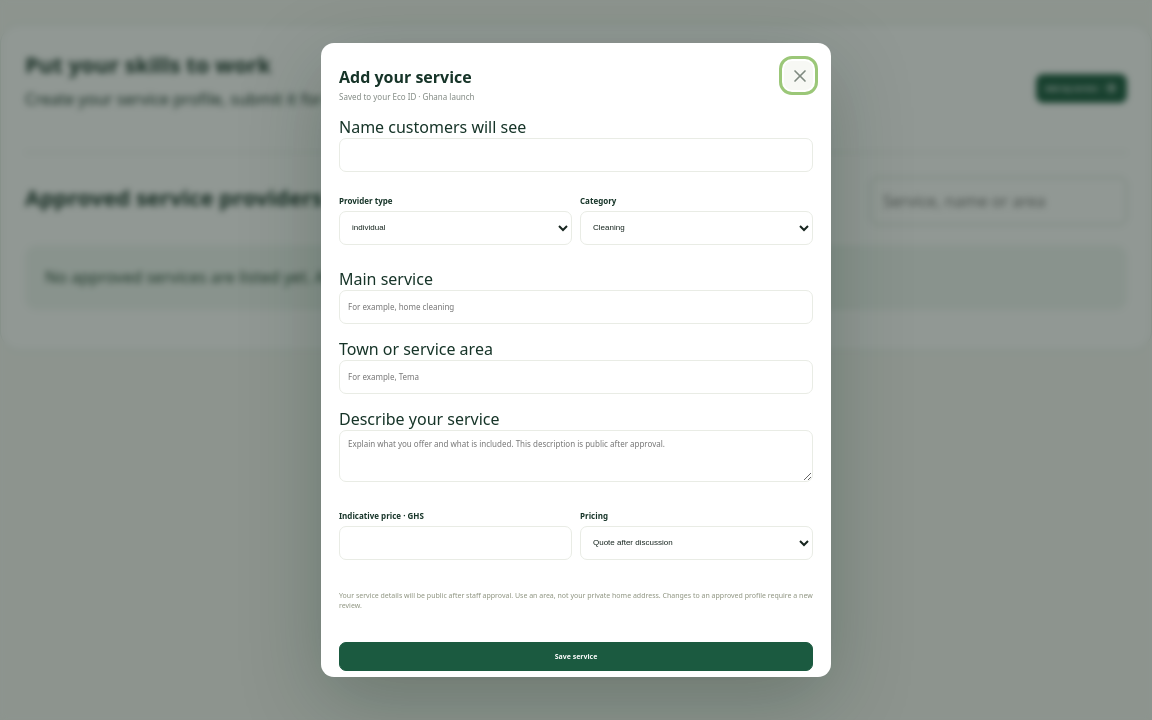
Test: provider onboarding › saves to the account with CSRF and submits for staff review
Expected: the button "Save service" is shown, [339, 642, 813, 671]
Type "Test Cleaner" into the field labelled "Name customers will see". click: (576, 155)
box: [339, 138, 813, 172]
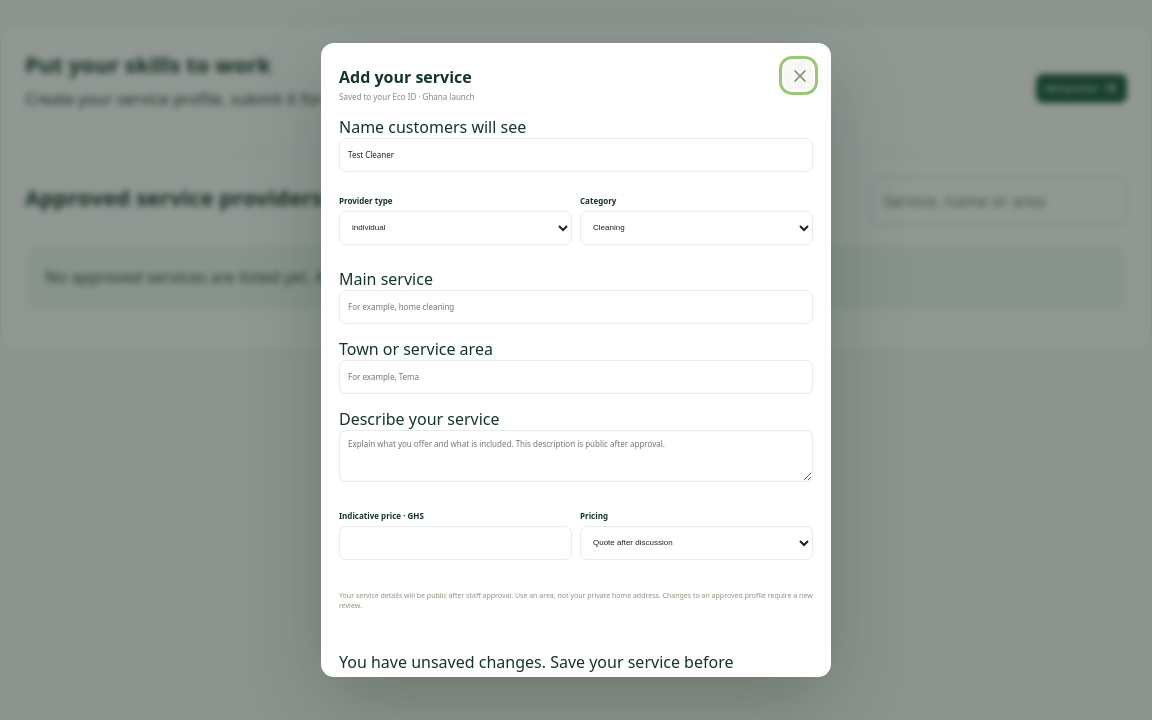
Type "House cleaning" into the field labelled "Main service". click: (576, 307)
box: [339, 290, 813, 324]
Type "Tema" into the field labelled "Town or service area". click: (576, 377)
box: [339, 360, 813, 394]
Replace the text in the text box labelled "Describe your service" with "House cleaning by appointment for homes.". click: (576, 456)
box: [339, 430, 813, 482]
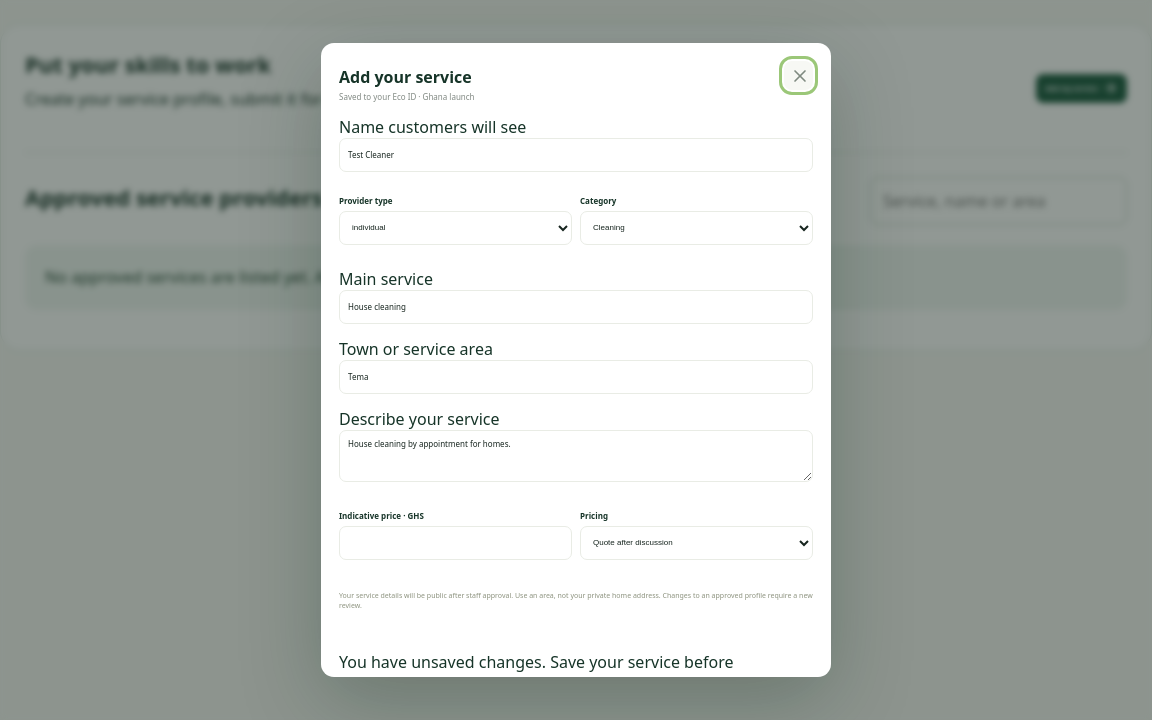
Type "120" into the number field labelled "Indicative price · GHS". click: (456, 543)
box: [339, 526, 572, 560]
(page scrolled)
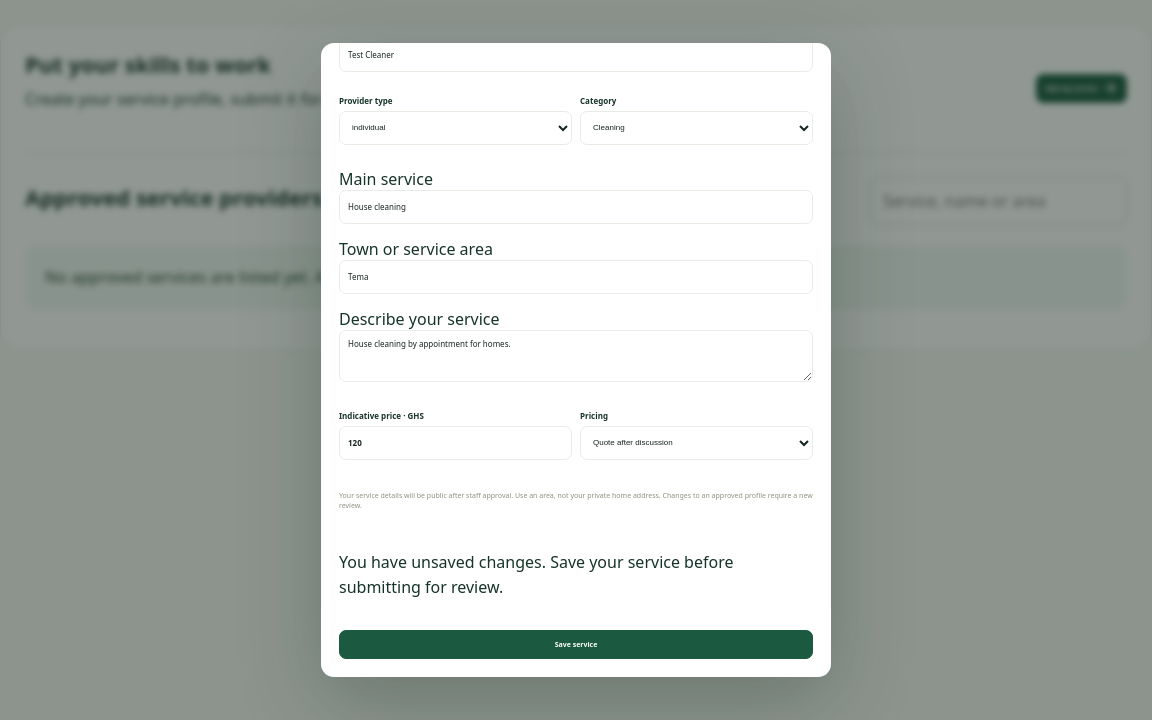
Click the button "Save service". click: (576, 644)
box: [339, 630, 813, 659]
(page scrolled)
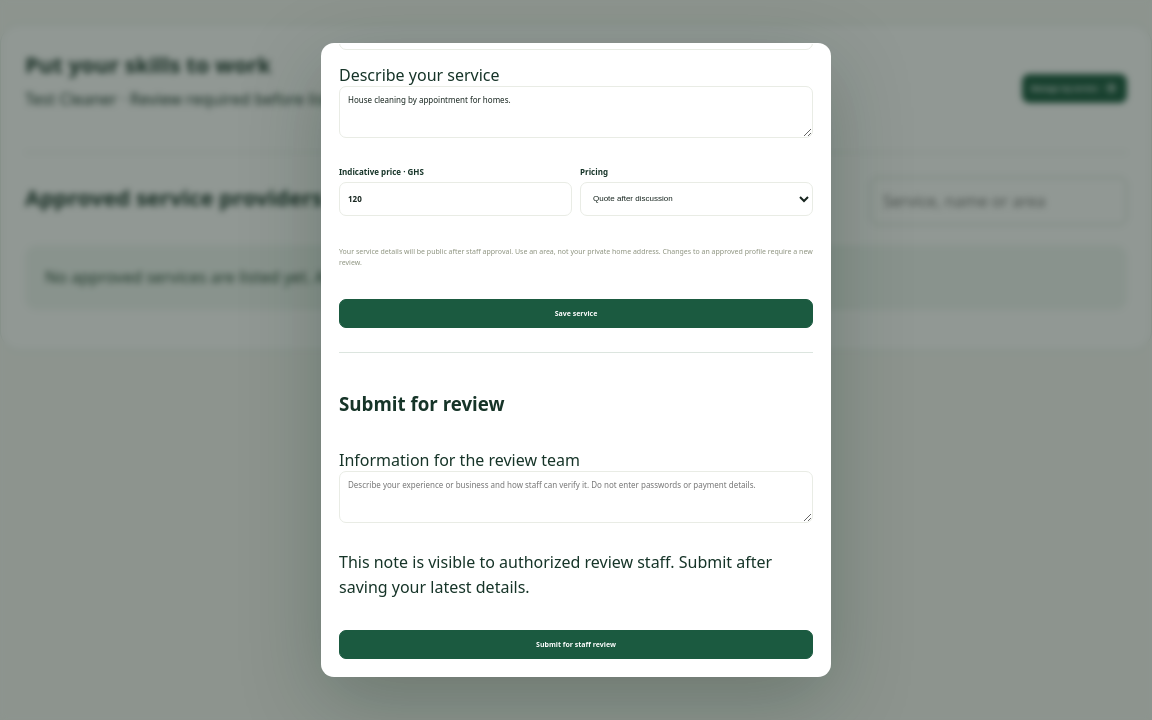
Expected: the button "Submit for staff review" is shown, [339, 630, 813, 659]
Replace the text in the text box labelled "Information for the review team" with "Synthetic reviewer-only evidence.". click: (576, 497)
box: [339, 471, 813, 523]
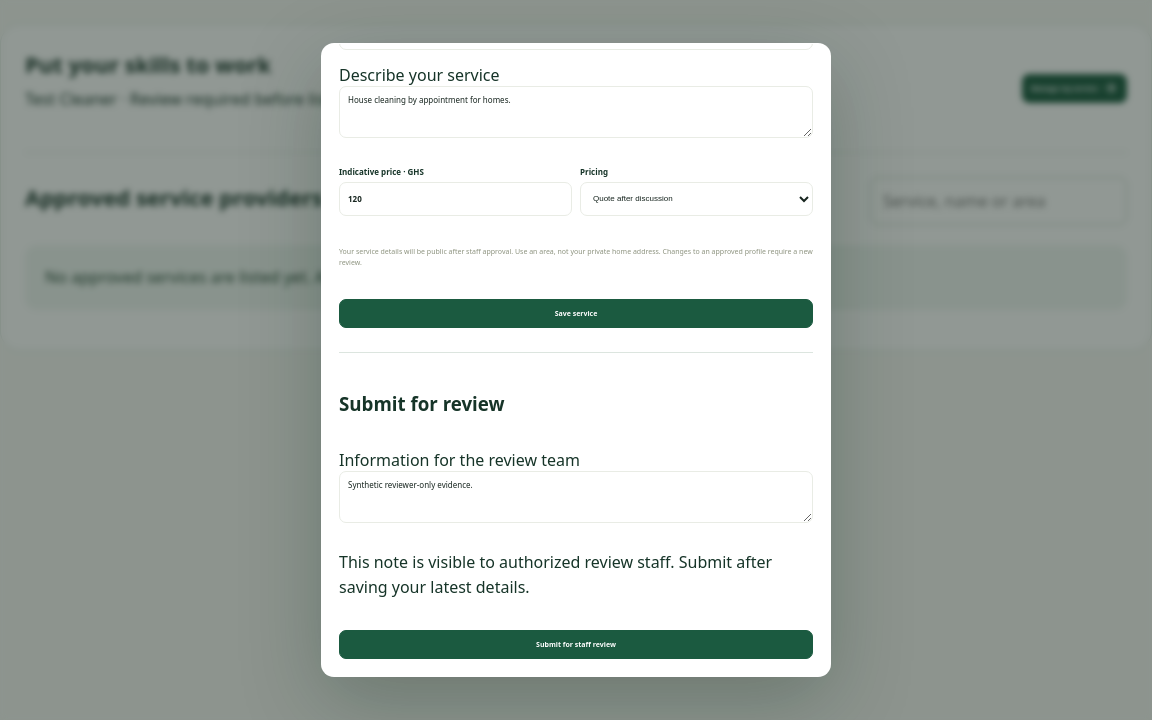
Click the button "Submit for staff review". click: (576, 644)
box: [339, 630, 813, 659]
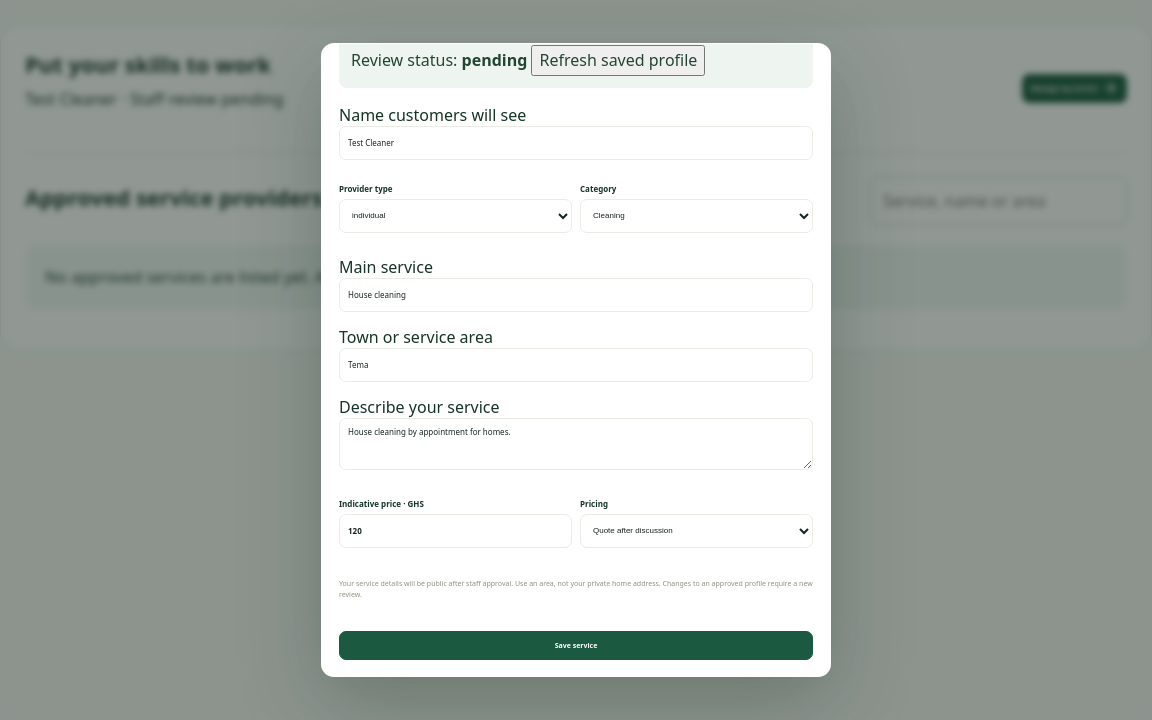
Expected: the text "pending" is shown, [462, 49, 527, 71]
Expected: the button "Submit for staff review" is gone
